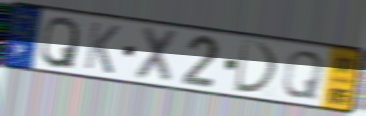2: (179, 34, 223, 90)
D: (232, 38, 281, 96)
K: (82, 20, 123, 77)
Q: (280, 49, 327, 102), (38, 15, 82, 71)
X: (131, 24, 181, 86)
